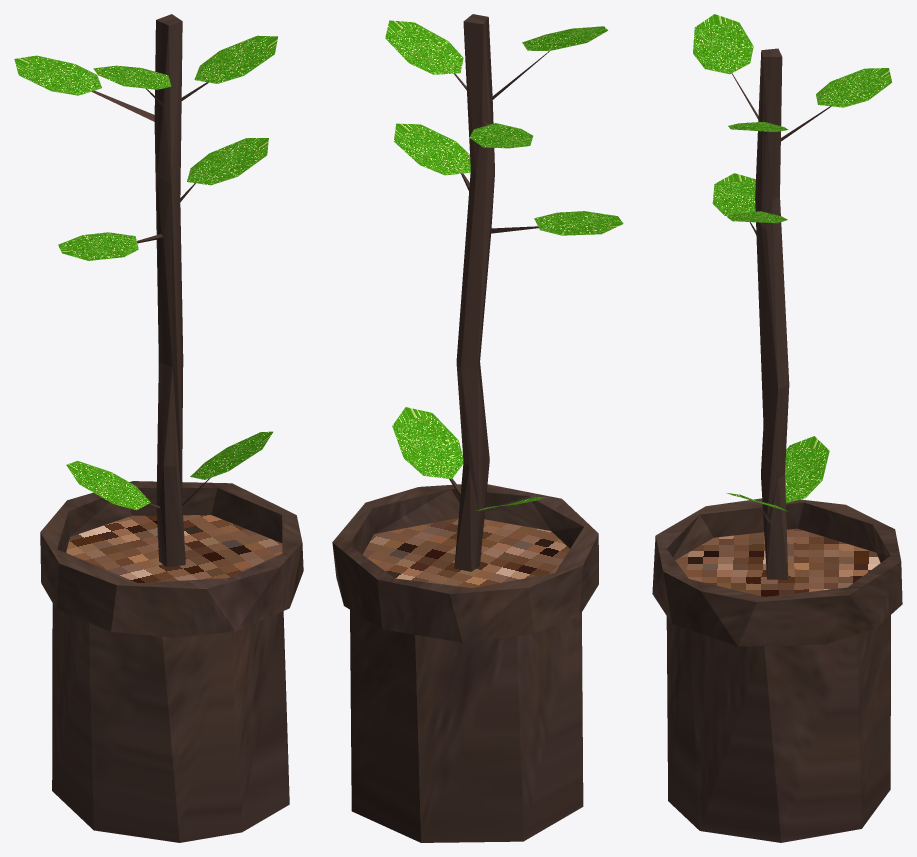
File: plant1.fbx
3 renders of one model, left to right at view 1: azimuth 30°, elevation 25°; view 2: azimuth 150°, elevation 25°; view 3: azimuth 270°, elevation 25°, orthographic. The views are drawn at different scales.
Visible parts, largest first — view 1: Plant No Leaves; view 2: Plant No Leaves; view 3: Plant No Leaves.
Part boxes in pixels (<box>): Plant No Leaves: <box>14,14,303,842</box>; Plant No Leaves: <box>332,14,623,842</box>; Plant No Leaves: <box>652,14,902,842</box>.
Size of the model in its own units: 245 by 738 by 226.
